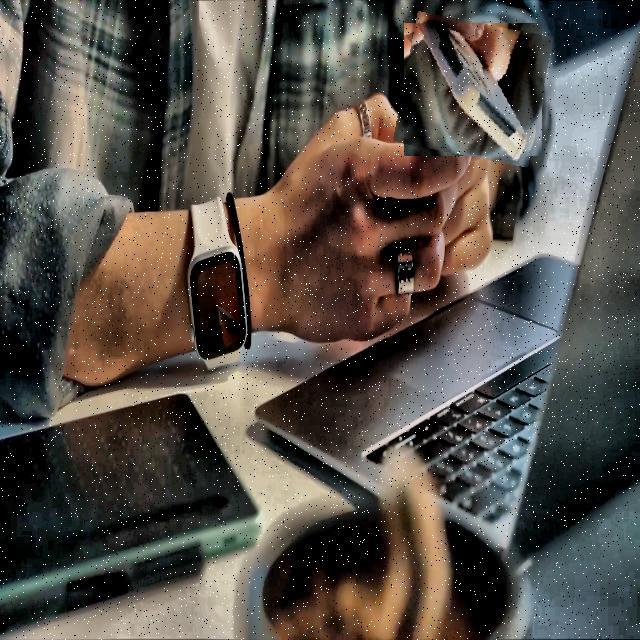Phone: (398, 17, 548, 162)
